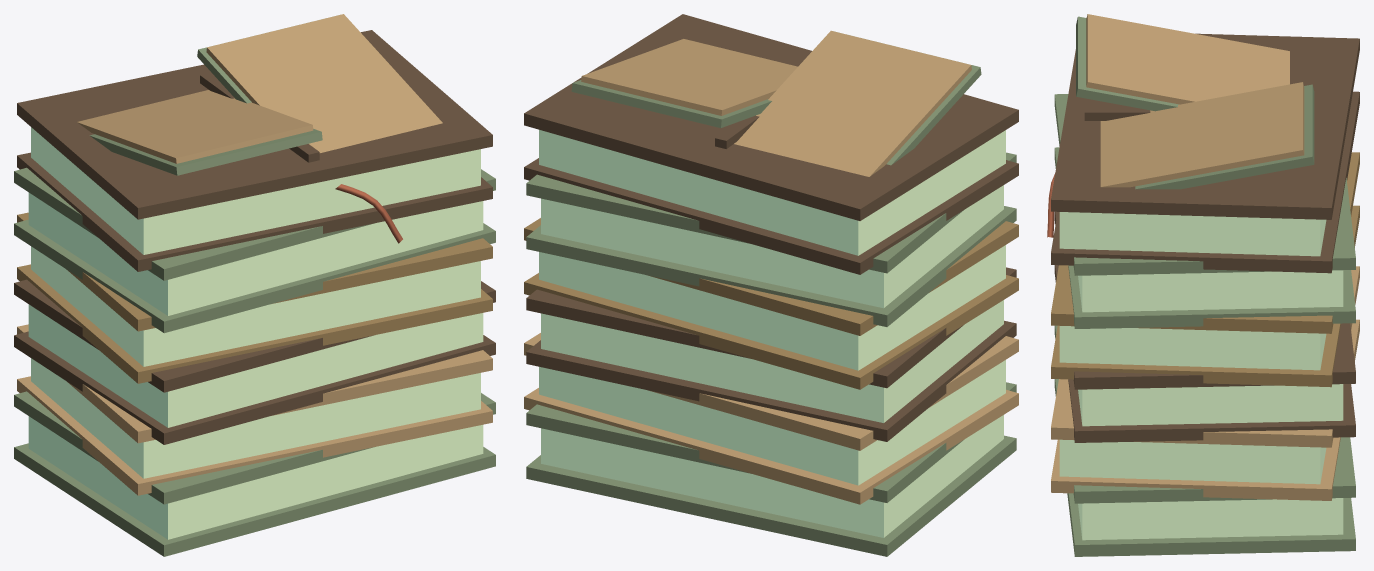
Rendered from books.glb.
3 renders of one model, left to right at view 1: azimuth 30°, elevation 25°; view 2: azimuth 150°, elevation 25°; view 3: azimuth 270°, elevation 25°, orthographic. The views are drawn at different scales.
Visible parts, largest first — view 1: atelier-warm-books; view 2: atelier-warm-books; view 3: atelier-warm-books.
Boxes of the visible parts, box(x1,y1,x2,y2) form: atelier-warm-books: box(14, 14, 495, 556); atelier-warm-books: box(524, 14, 1018, 556); atelier-warm-books: box(1047, 14, 1359, 556).
Bounding box in the file's own units: 0.9854 × 1 × 0.7321.
